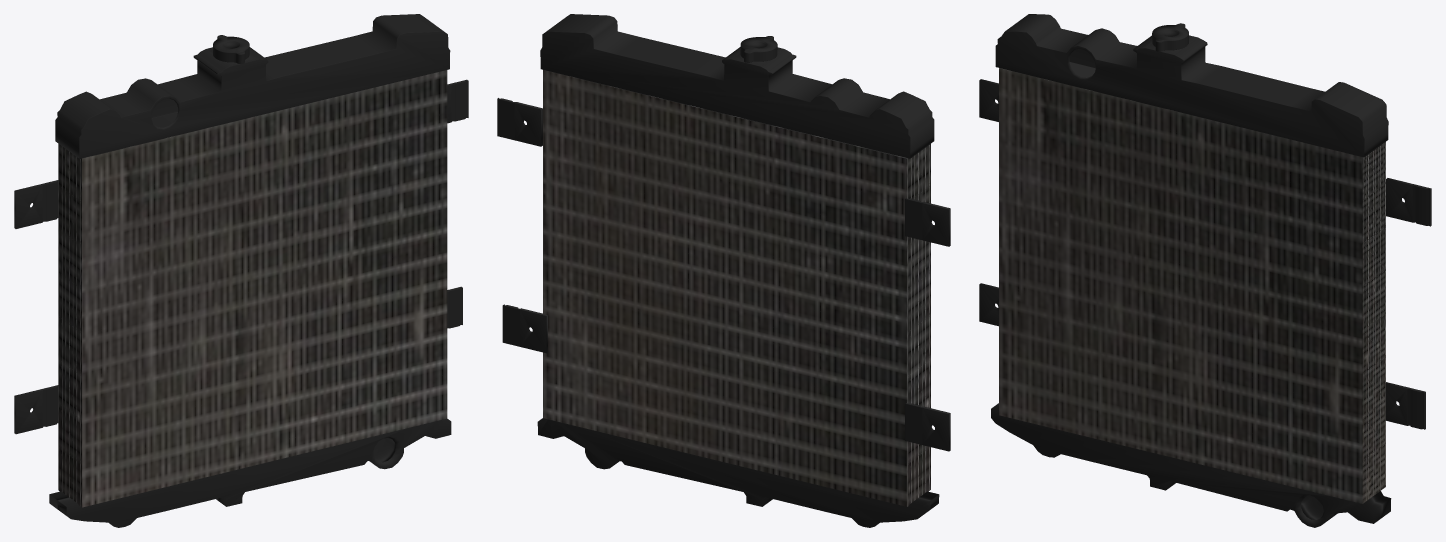
File: car-radiator.glb
3 views of the same model, side by side, from view 1: azimuth 30°, elevation 25°; view 2: azimuth 150°, elevation 25°; view 3: azimuth 330°, elevation 25° (orthographic).
Visible parts, largest first — view 1: reservatorio geral; view 2: reservatorio geral; view 3: reservatorio geral.
Part boxes in pixels (left/top/right/bottom): reservatorio geral: left=14, top=14, right=468, bottom=527; reservatorio geral: left=497, top=14, right=950, bottom=527; reservatorio geral: left=979, top=14, right=1431, bottom=527.
Bounding box in the file's own units: 0.72 × 0.6911 × 0.0708.
2 materials, 1 textured.
